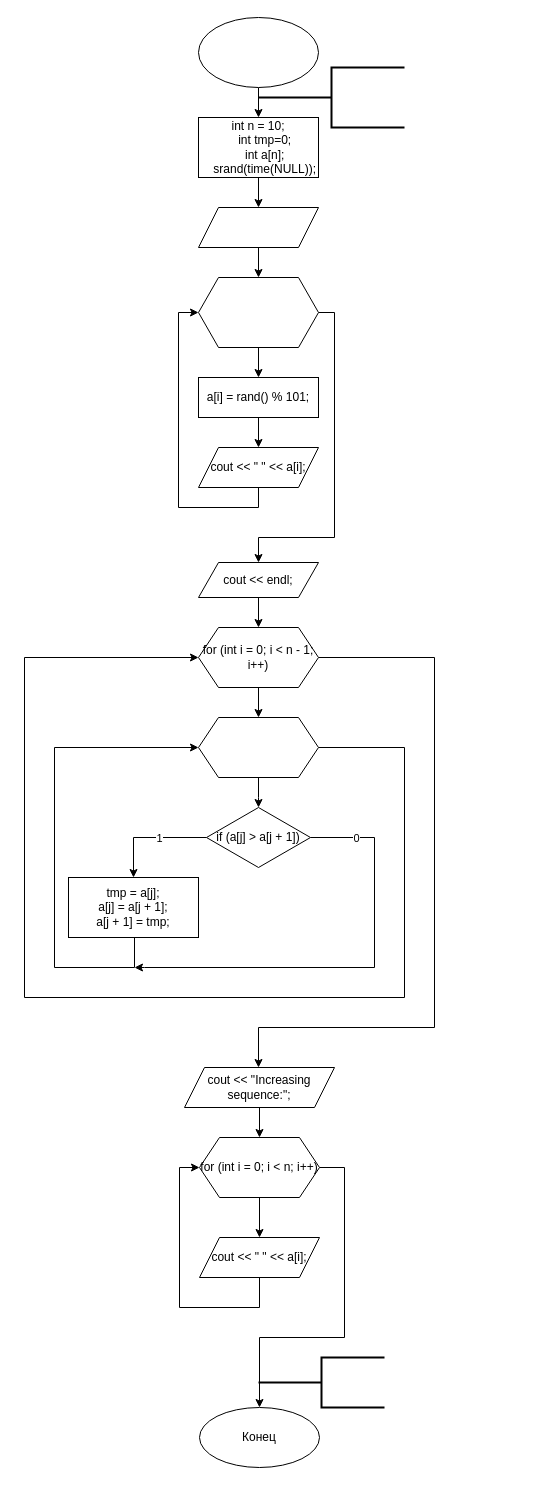
Image size: 541x1485. Some labels were removed from this diagram. Here are the shapes that lost their labels. From the top down, the box of each, then its label:
(198, 16, 318, 88): Запуск
(257, 66, 405, 128): #include <iostream> using namespace std; int main() {
(198, 206, 318, 248): cout << "Default sequence:";
(198, 276, 318, 348): for (int i = 0; i <= 9; i++)
(198, 716, 318, 778): for (int j = 0; j <= n - 1 - i; j++)
(257, 1356, 385, 1408): return 0; }
